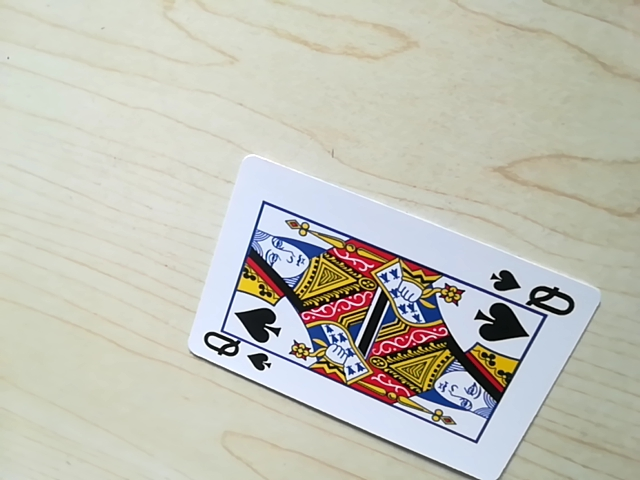ht q: (483, 269, 578, 313), (198, 330, 272, 371)
